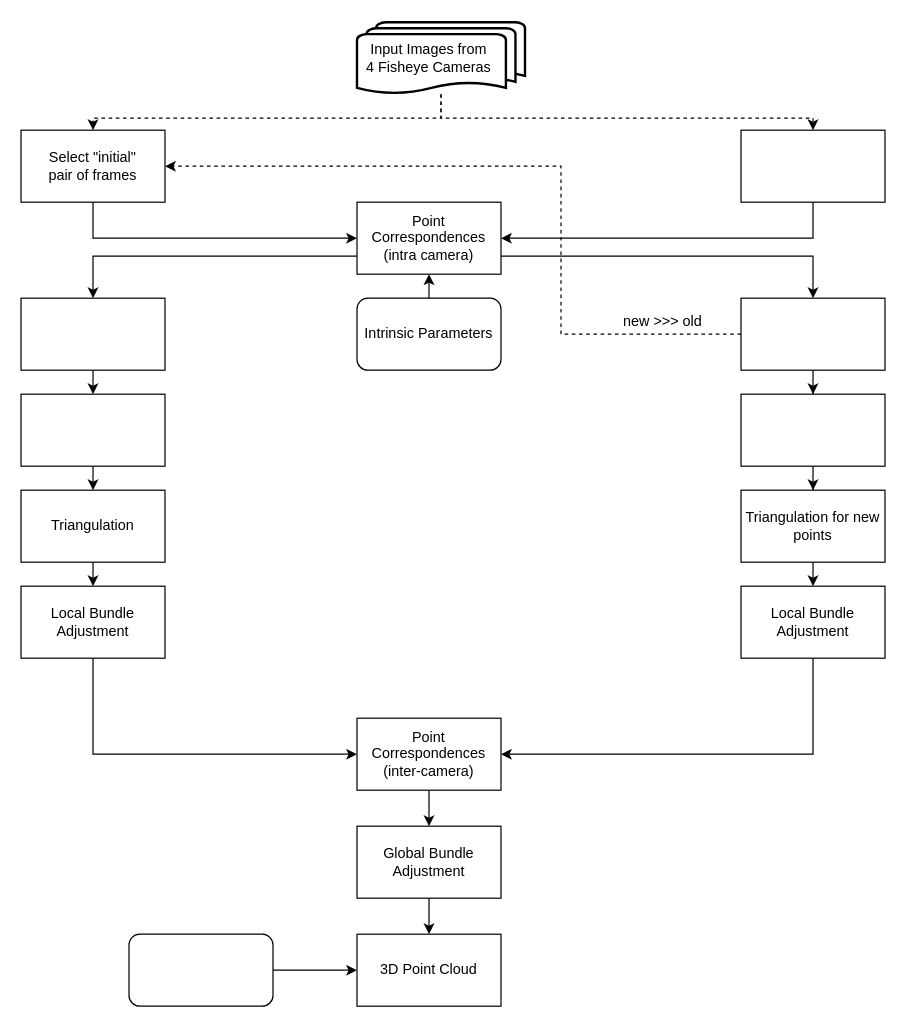
Some shapes in this 906 by 1027 pixel diagram are drawn without their labels. Here are the shapes that lost their labels. From the top down, the centre of each, then its label:
At pixel 812 165: "Add subsequent frame".
At pixel 92 333: "Essential Matrix using PnP Algorithm".
At pixel 812 333: "Check for old and new points".
At pixel 92 429: "Pose Estimation".
At pixel 812 429: "Essential Matrix using P3P Algorithm".
At pixel 200 969: "Relative position and orientation of cameras".
